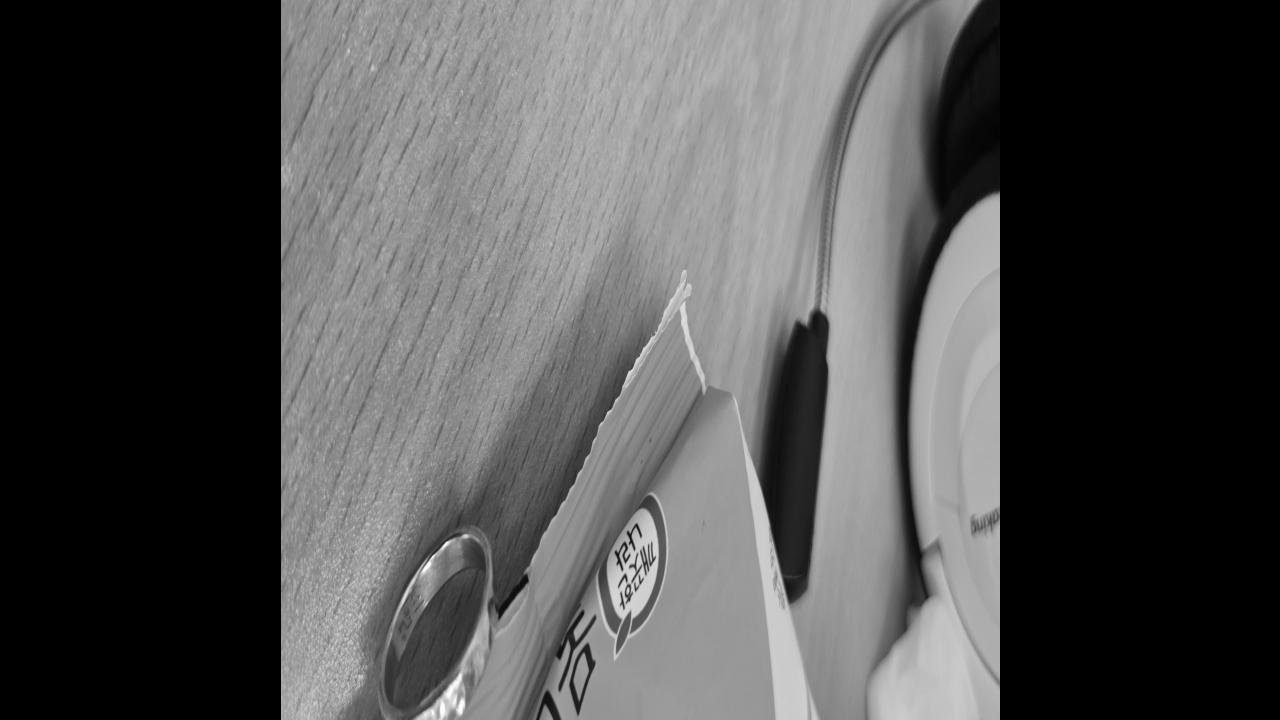ring: (373, 522, 497, 720)
